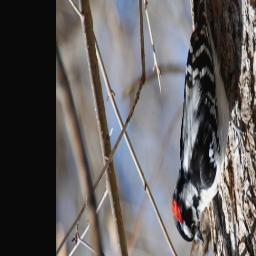Woodpecker: (169, 0, 232, 252)
